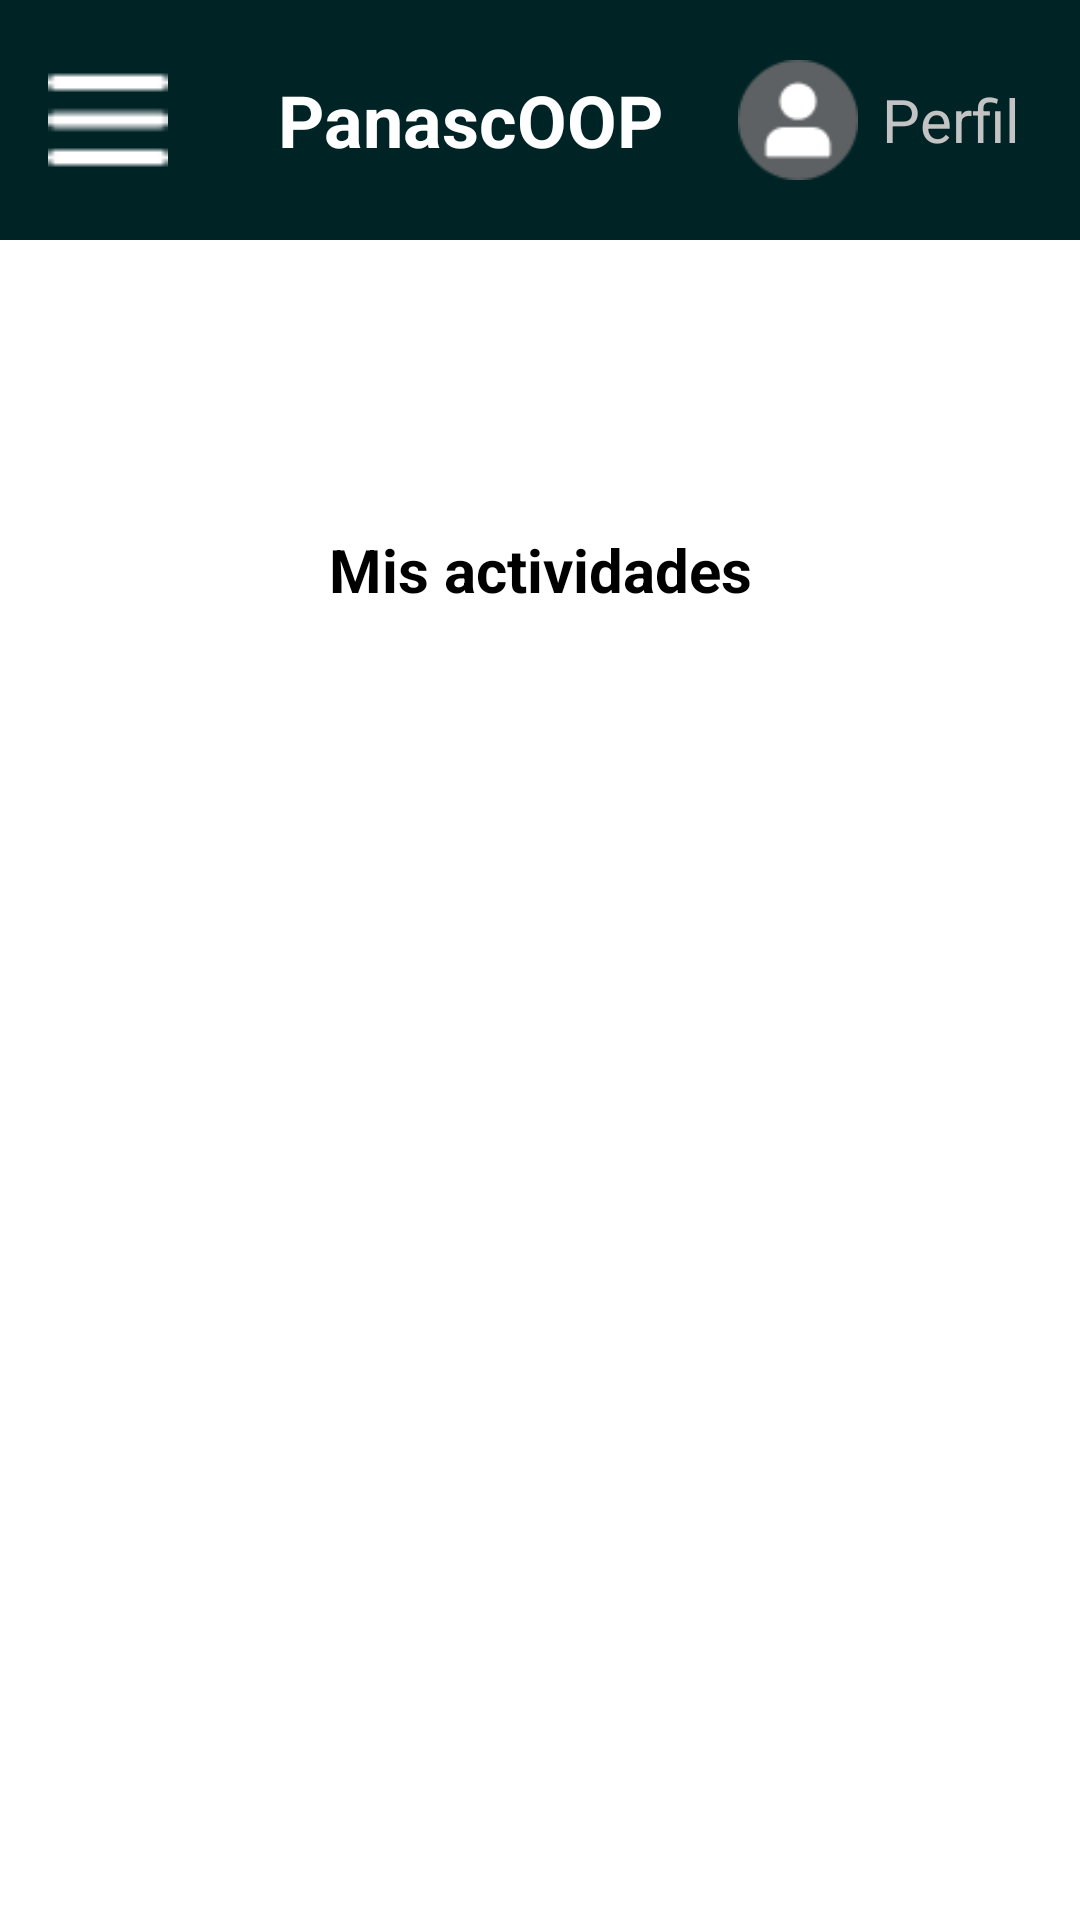

Where to tap for icons on this 1080×1920 app screen, as (x=x, y=y):
Menú: (x=108, y=120)
user: (x=798, y=120)
